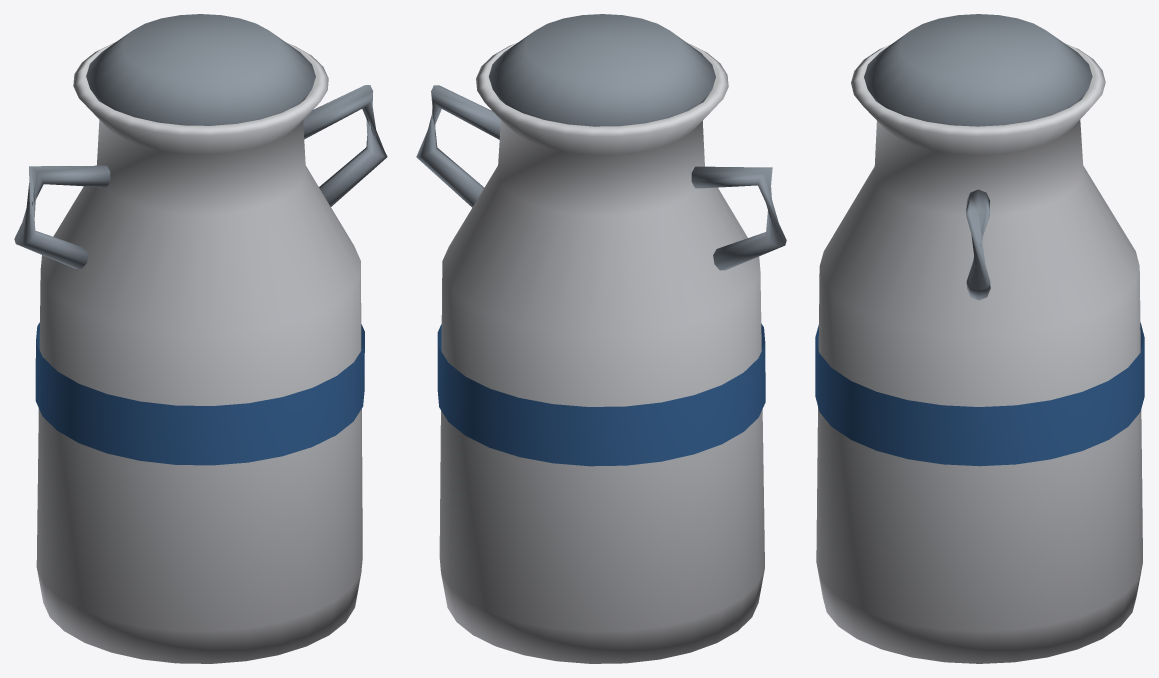
The model's file is prop_milk_can.glb.
3 renders of one model, left to right at view 1: azimuth 30°, elevation 25°; view 2: azimuth 150°, elevation 25°; view 3: azimuth 270°, elevation 25°, orthographic.
Visible parts, largest first — view 1: prop_milk_can; view 2: prop_milk_can; view 3: prop_milk_can.
Part boxes in pixels (x1,y1,x2,y2): prop_milk_can: [14, 14, 387, 663]; prop_milk_can: [416, 14, 786, 663]; prop_milk_can: [815, 14, 1144, 663].
Size of the model in its own units: 0.6522 by 0.94 by 0.5041.
